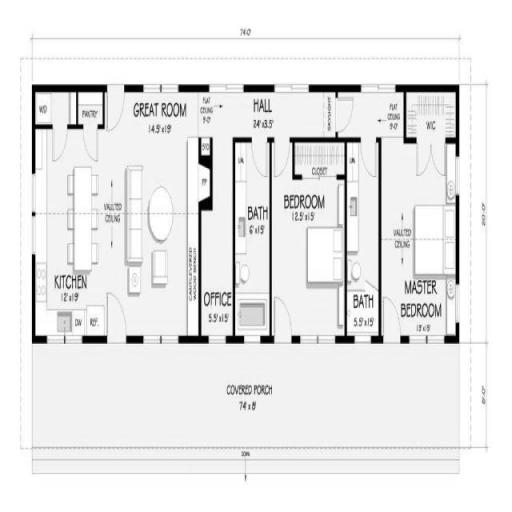Room: (125, 97, 198, 128)
bathroom: (243, 147, 272, 342)
bedroom: (388, 140, 462, 336), (280, 146, 340, 331)
hall: (208, 91, 340, 136)
kitchen: (44, 130, 191, 341)
